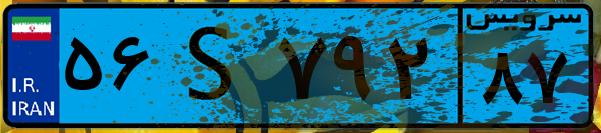2: (385, 28, 445, 110)
5: (57, 26, 110, 100)
6: (110, 28, 158, 98)
7: (270, 28, 330, 110), (525, 38, 570, 115)
8: (475, 38, 525, 113)
9: (330, 28, 385, 110)
S: (158, 12, 270, 120)
